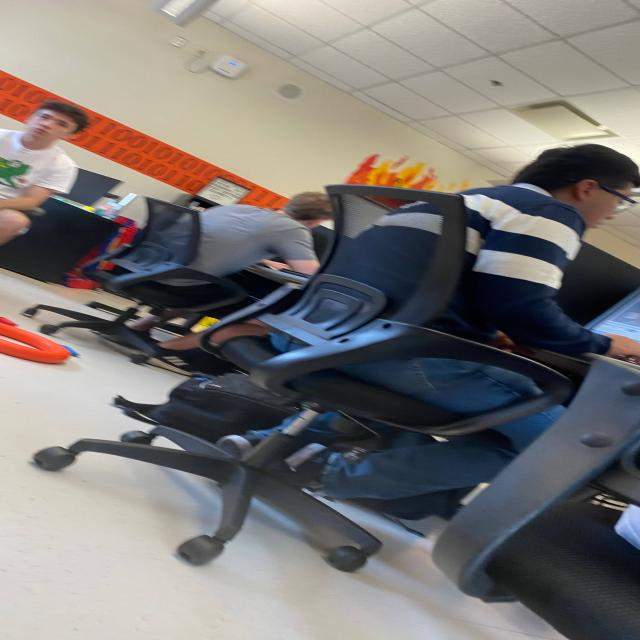red-specimen: (0, 317, 16, 326)
